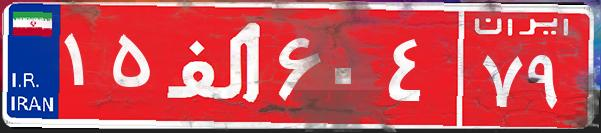0: (330, 28, 385, 110)
1: (57, 26, 110, 107)
4: (385, 28, 445, 110)
5: (110, 28, 158, 105)
6: (273, 28, 330, 110)
7: (475, 38, 525, 113)
9: (525, 38, 570, 115)
الف: (158, 15, 273, 115)
